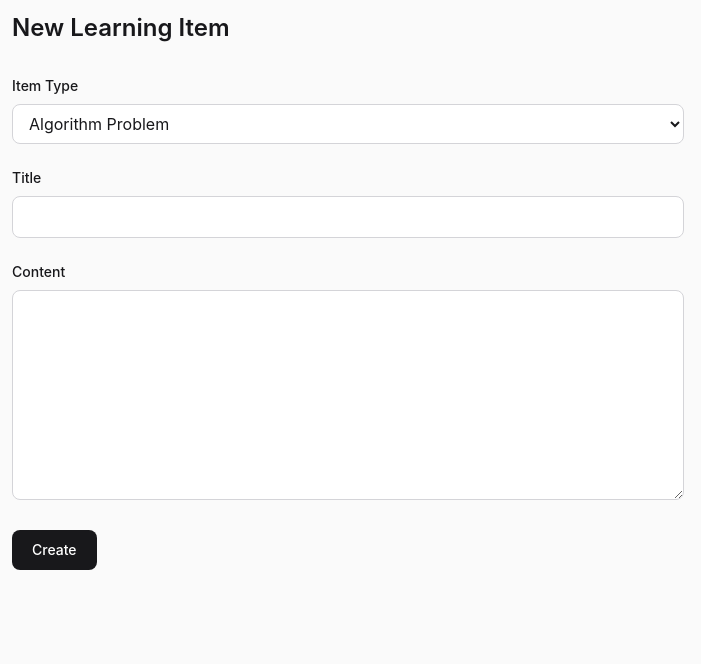
Scenario: CreateLearningItemPage › 登録処理が失敗したらAPIエラーを表示する
Step 1. Type "二分探索" into the field labelled "Title" → (348, 217), box [12, 196, 684, 238]
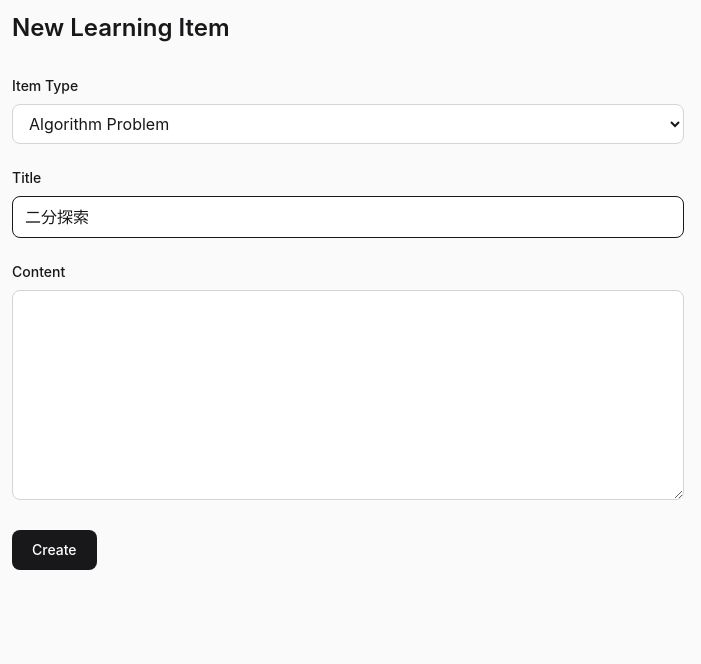
Step 2. Click the button "Create" → (54, 550), box [12, 530, 97, 570]
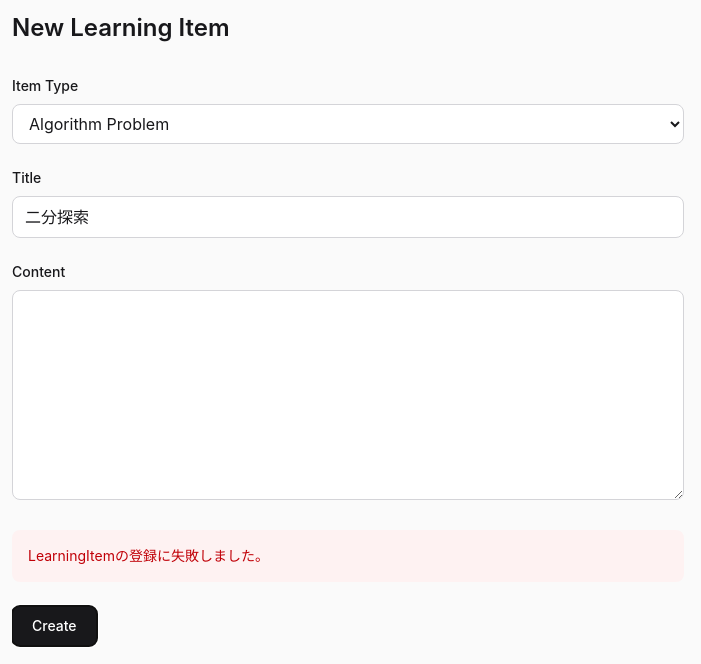
expect the text "LearningItemの登録に失敗しました。" is shown: met, box [12, 530, 684, 582]
